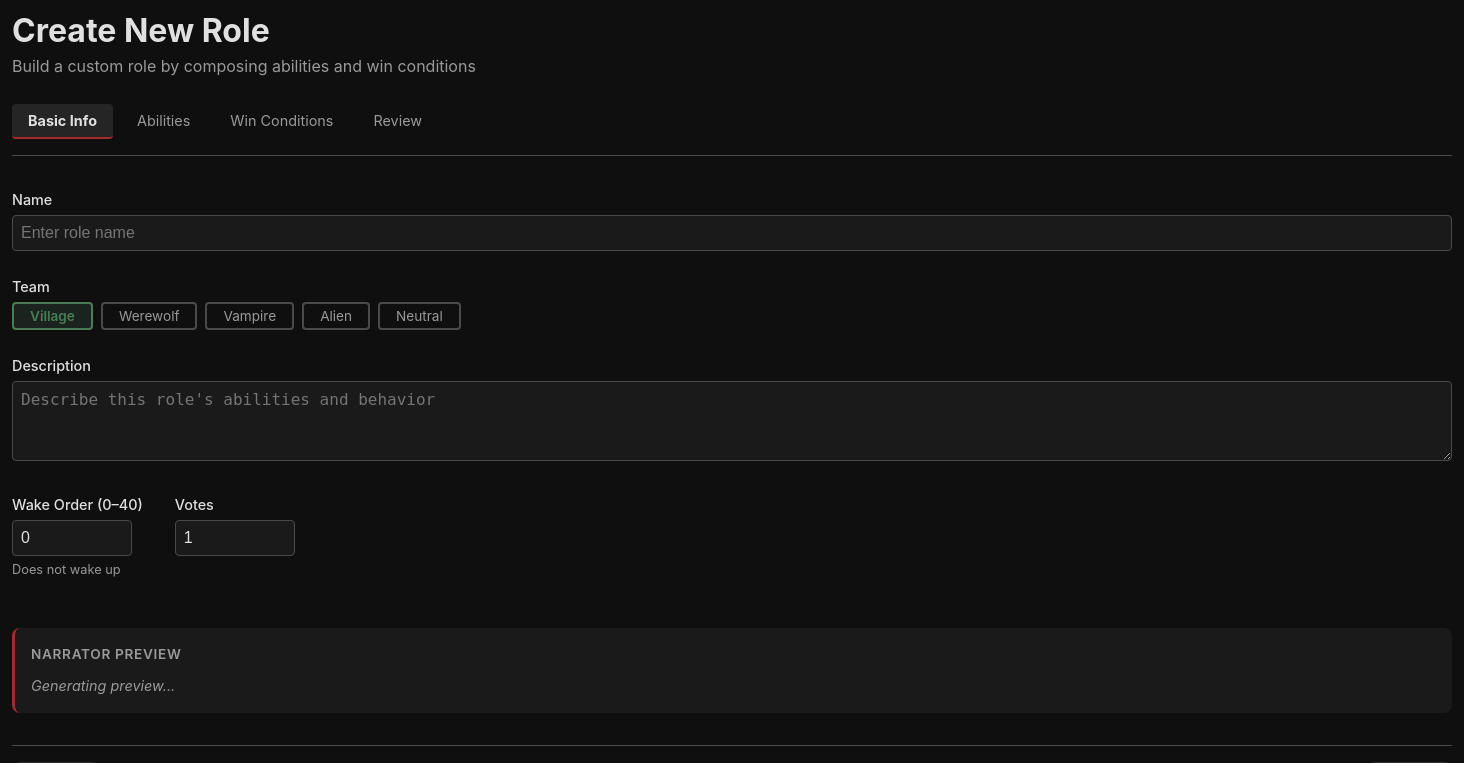
Test: RoleBuilderPage › keeps preview generation independent of validation readiness for a non-waking role
The image size is (1464, 763).
In the field labelled "Name": (732, 233) [12,215,1452,251], type "Villager"
Wait 1000 ms
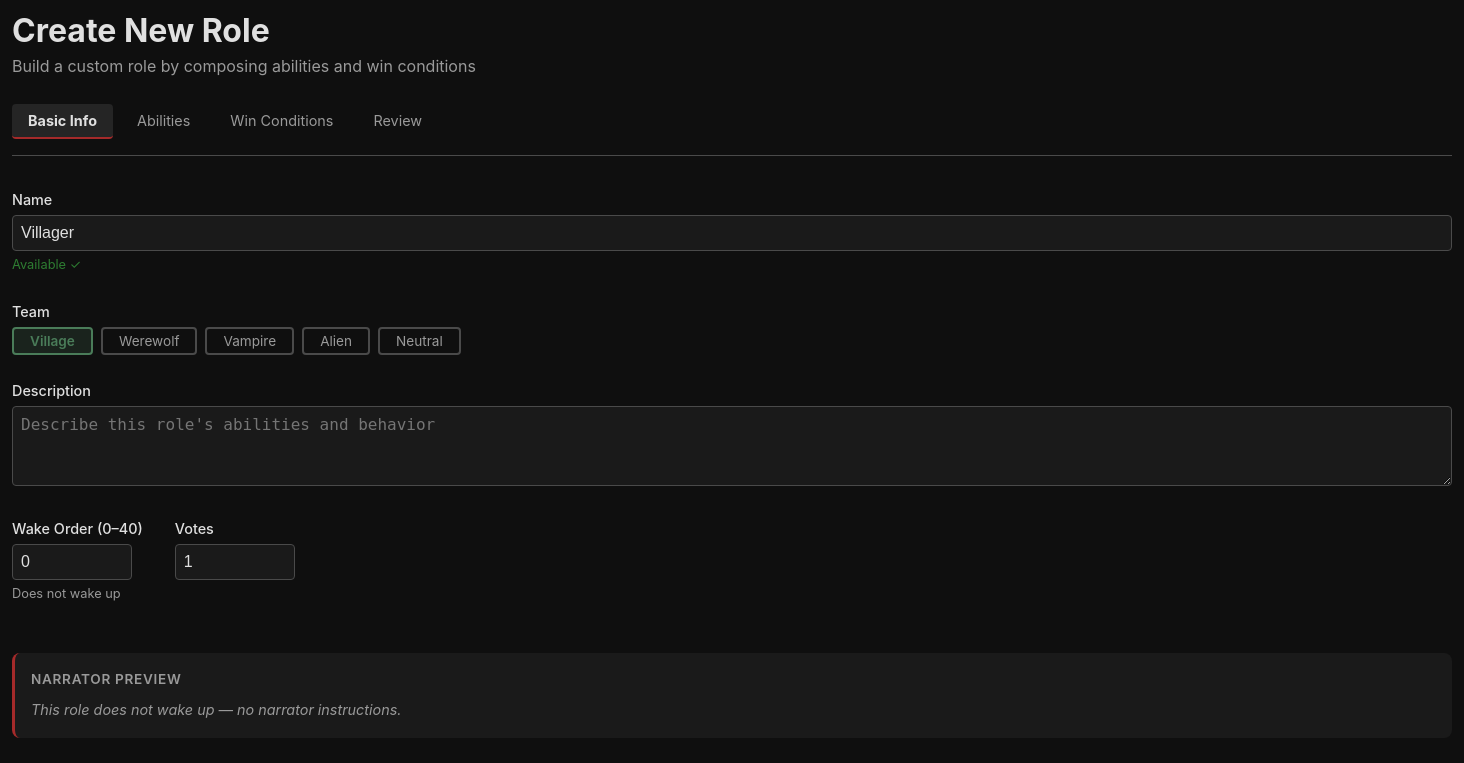
expect the text "This role does not wake up — no narrator instructions." is shown: met, box [31,702,401,718]
